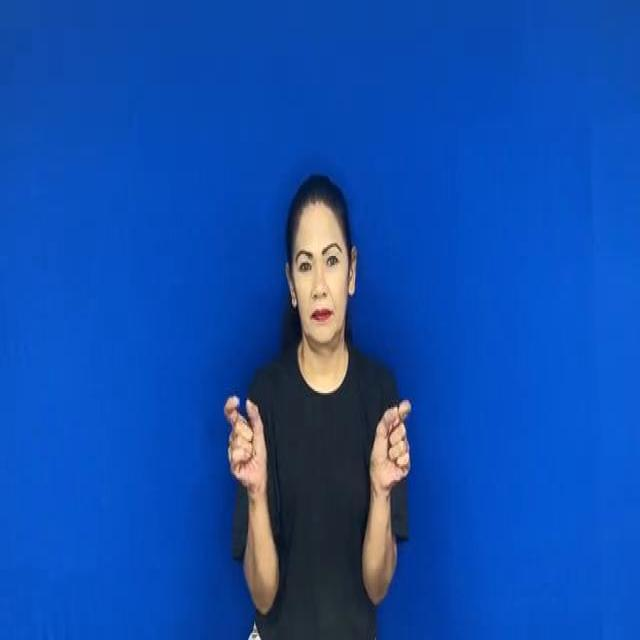crab: (215, 385, 278, 494), (364, 390, 416, 498)
